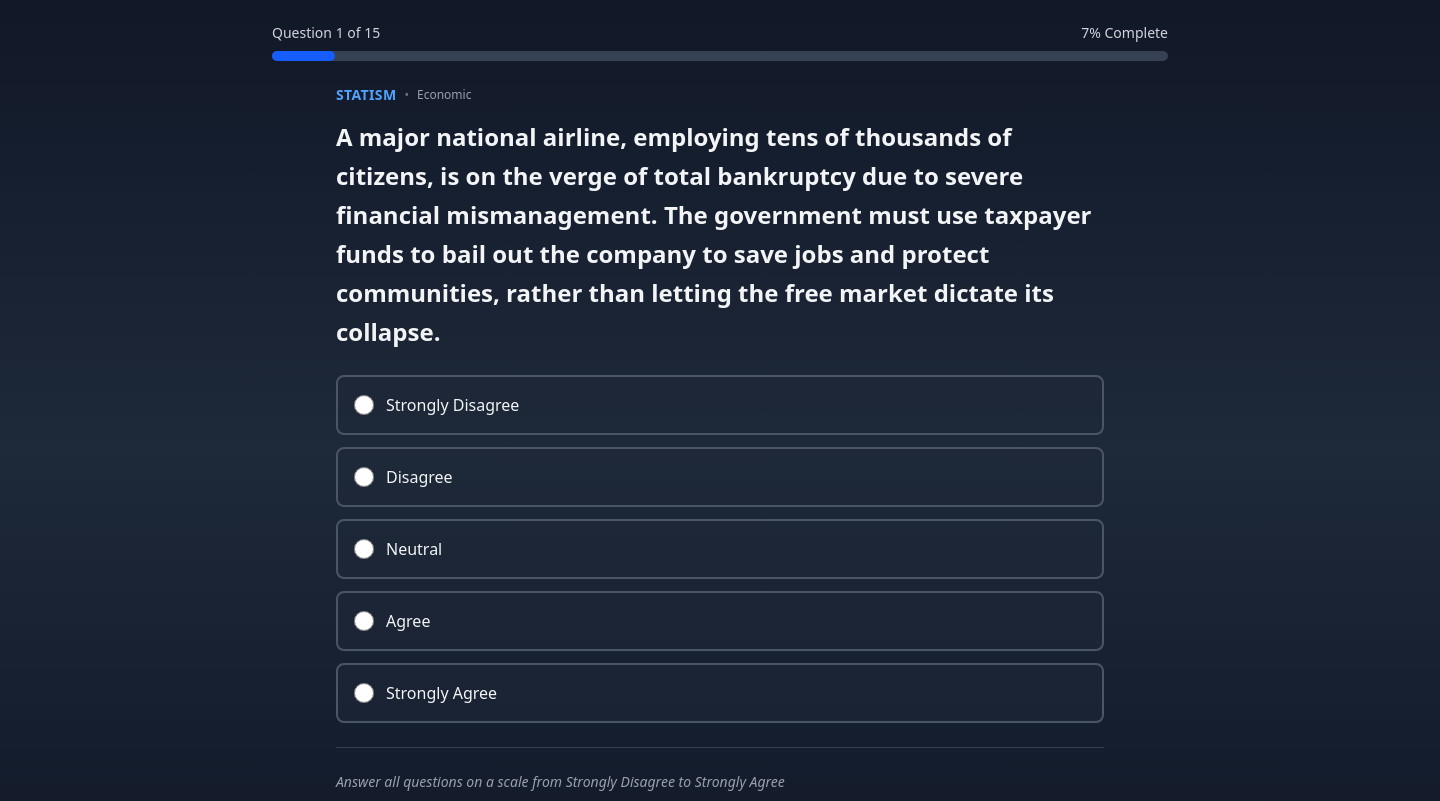
Scenario: QuizContainer › navigates to previous question when Previous is clicked
// Answer first question
Click the radio button labelled "Agree".
click(364, 621)  # box 354,611 -> 374,631
(page scrolled)
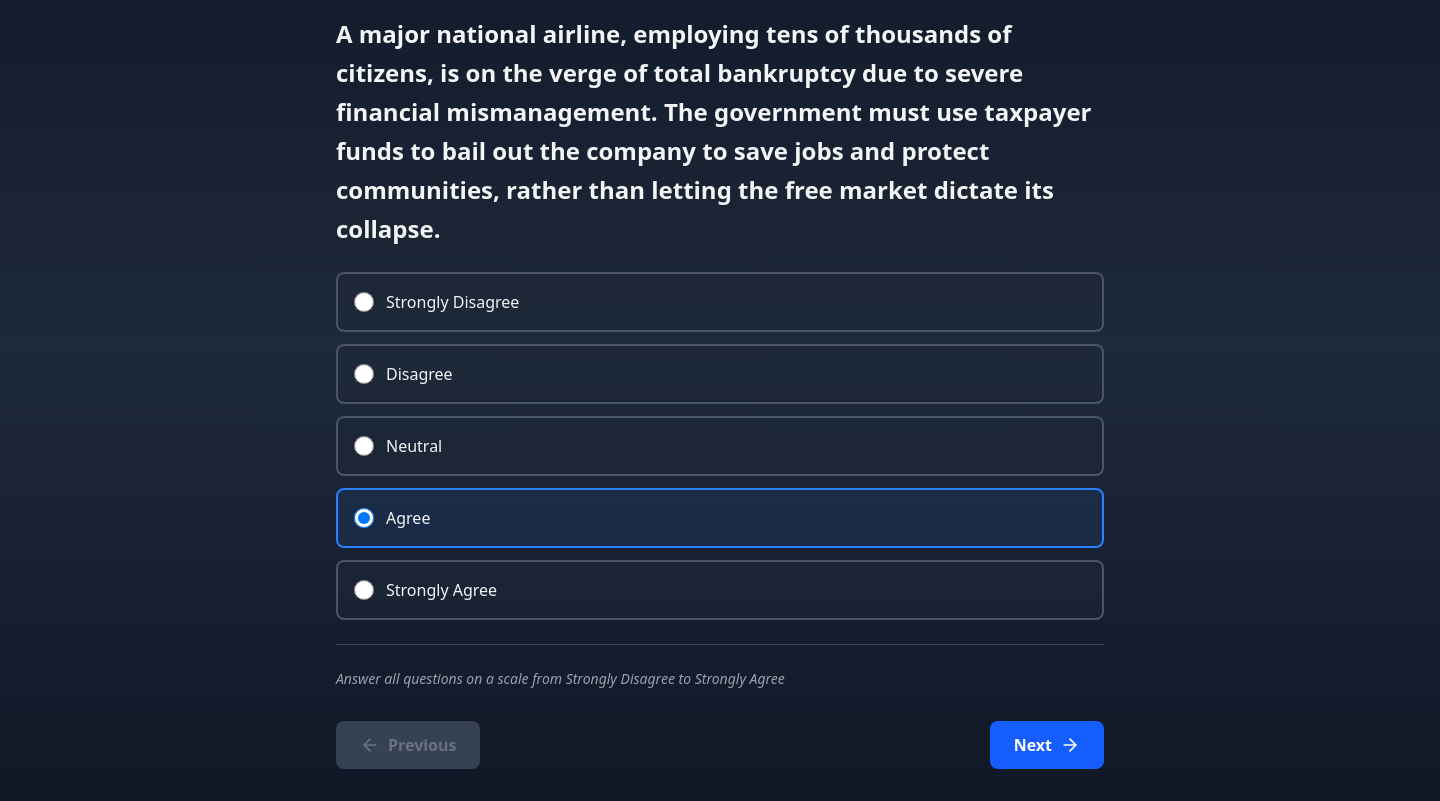
// Go to next question
Click the button "Next".
click(1047, 745)  # box 990,721 -> 1104,769
(page scrolled)
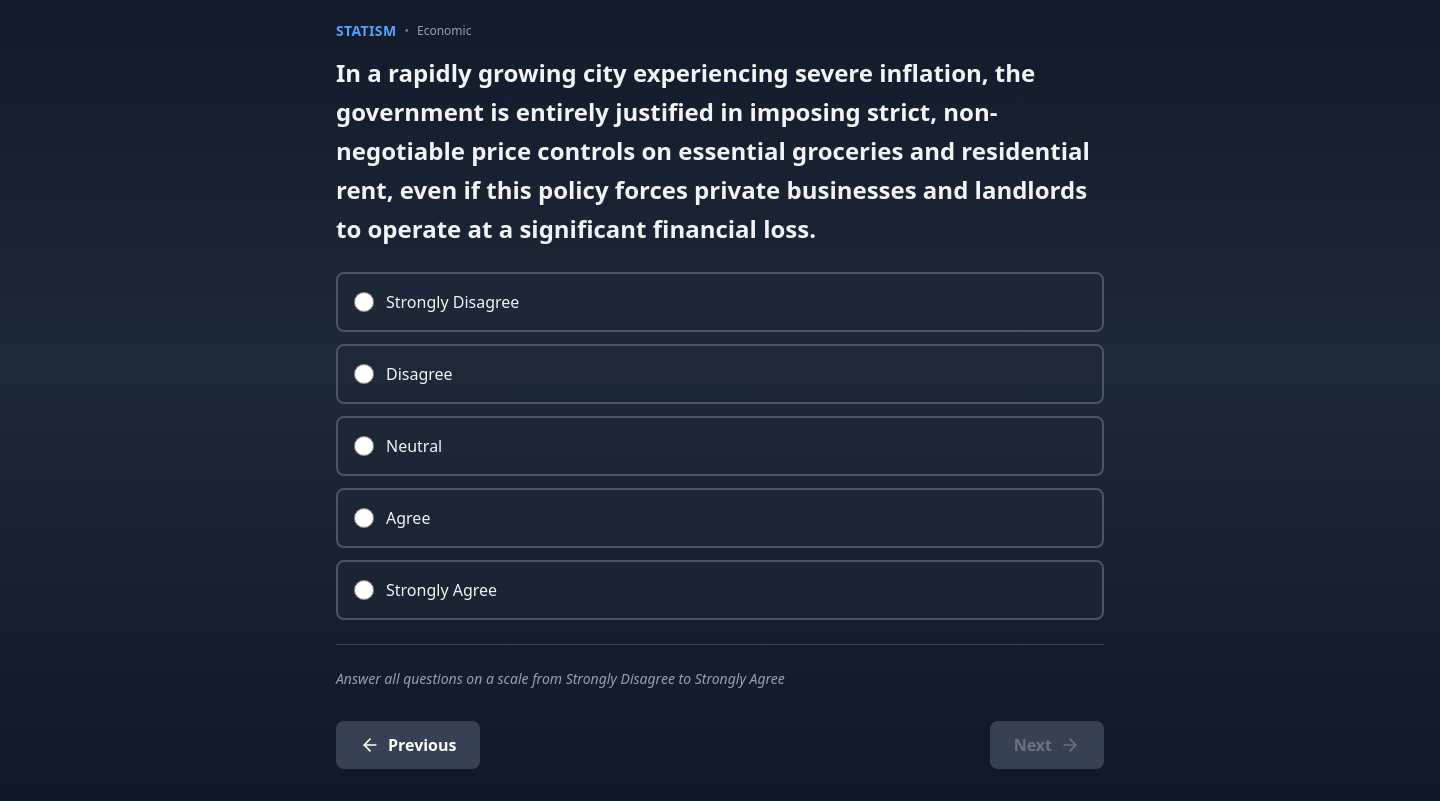
// Click Previous
Click the button "Previous".
click(408, 745)  # box 336,721 -> 480,769
(page scrolled)
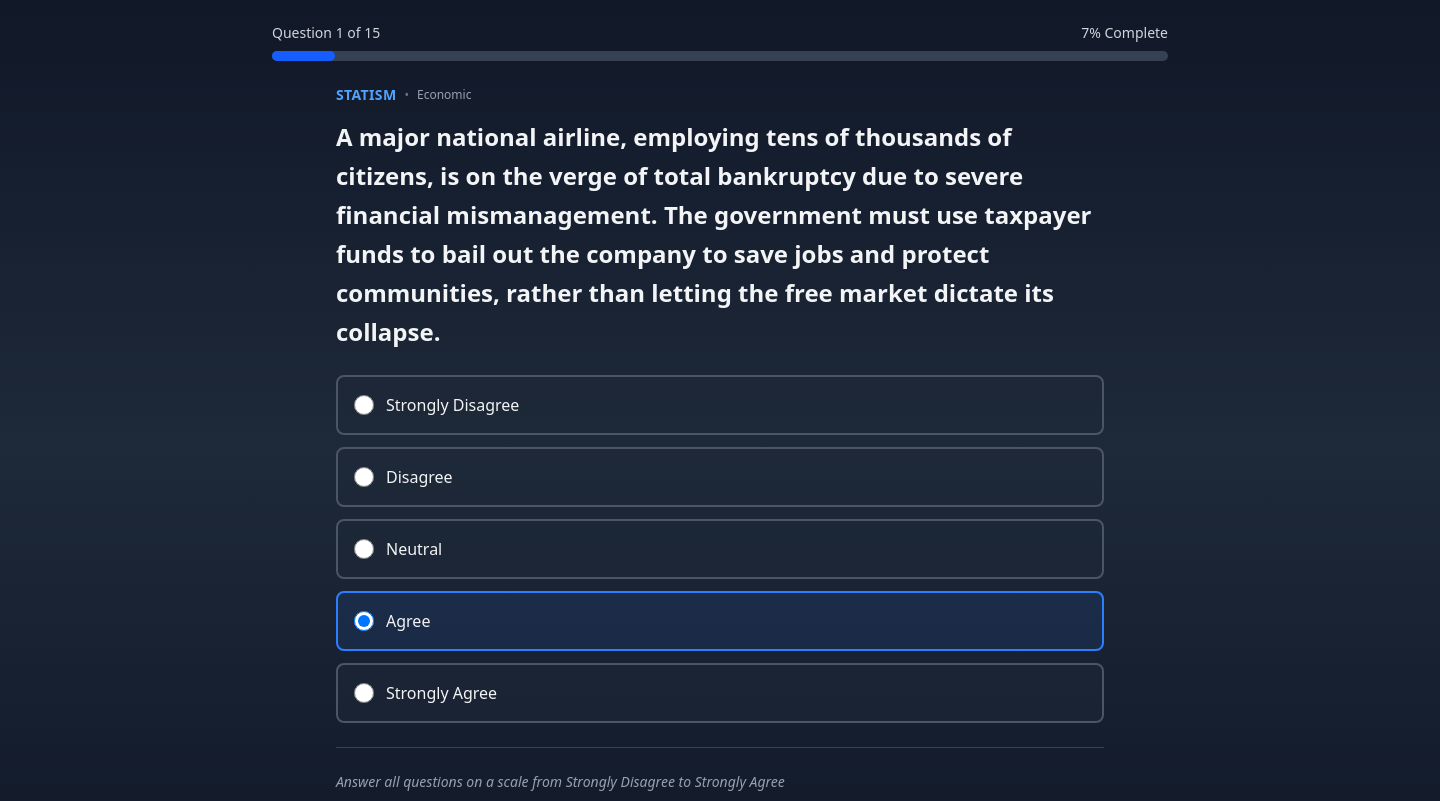
Result: the text "Question 1 of 15" is shown at 272,23 -> 380,43
